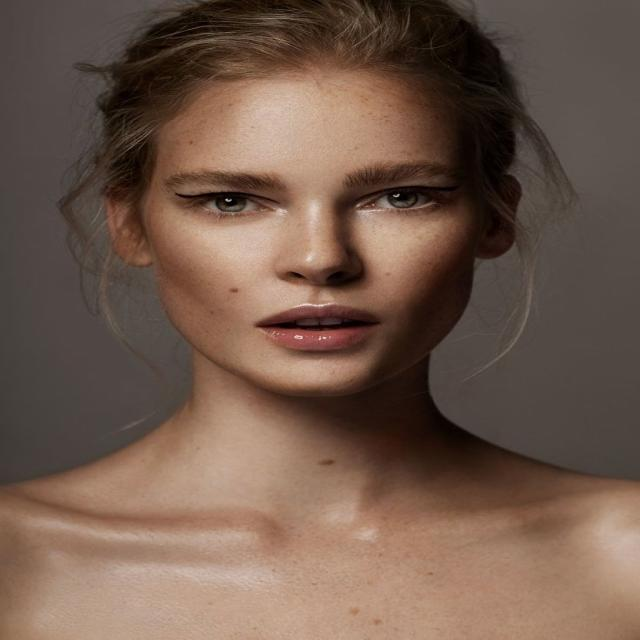earlobe: (114, 234, 155, 269), (475, 226, 513, 262)
eye: (192, 190, 277, 214), (356, 187, 440, 210)
nose: (275, 270, 362, 301)
wholeear: (101, 175, 156, 269), (476, 172, 523, 262)
